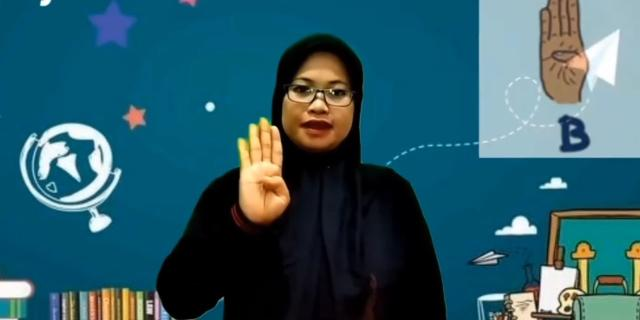B: (236, 117, 292, 223)
